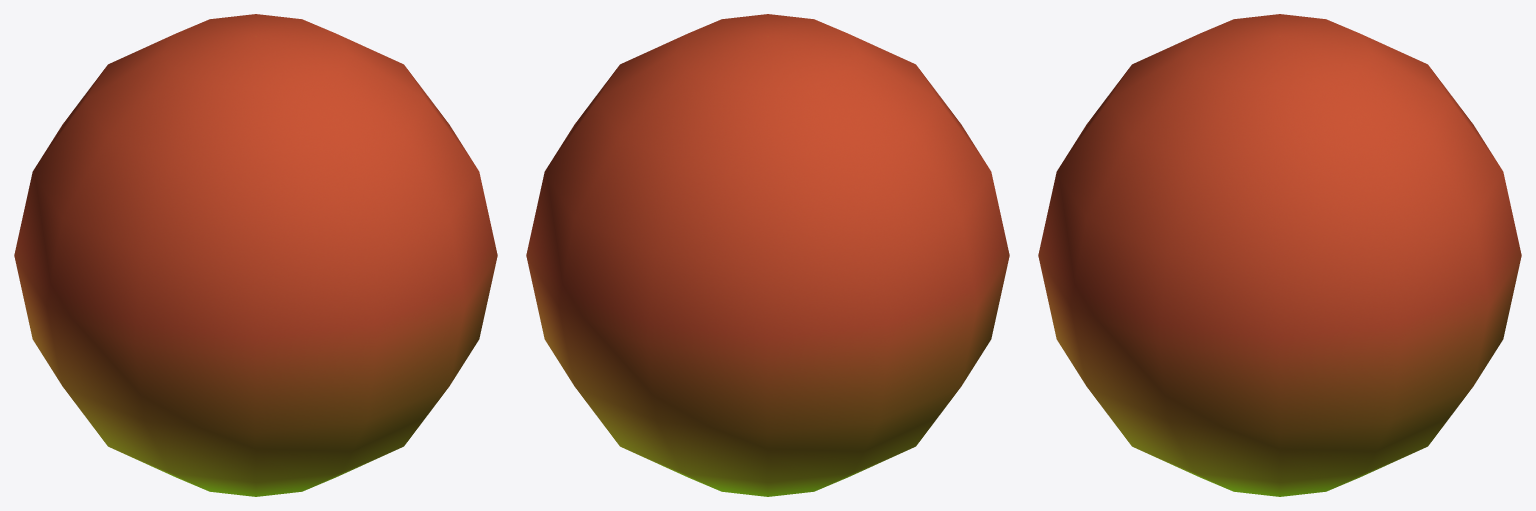
File: coconut_mesh.fbx
The picture shows the model from 3 angles, left to right: view 1: azimuth 30°, elevation 25°; view 2: azimuth 150°, elevation 25°; view 3: azimuth 270°, elevation 25°; orthographic projection.
Parts seen in each view (by area): view 1: Sphere; view 2: Sphere; view 3: Sphere.
Part boxes in pixels (x1,y1,x2,y2): Sphere: [14, 14, 497, 496]; Sphere: [526, 14, 1009, 496]; Sphere: [1038, 14, 1521, 496].
Size of the model in its own units: 200 by 200 by 200.
1 material, 1 textured.
